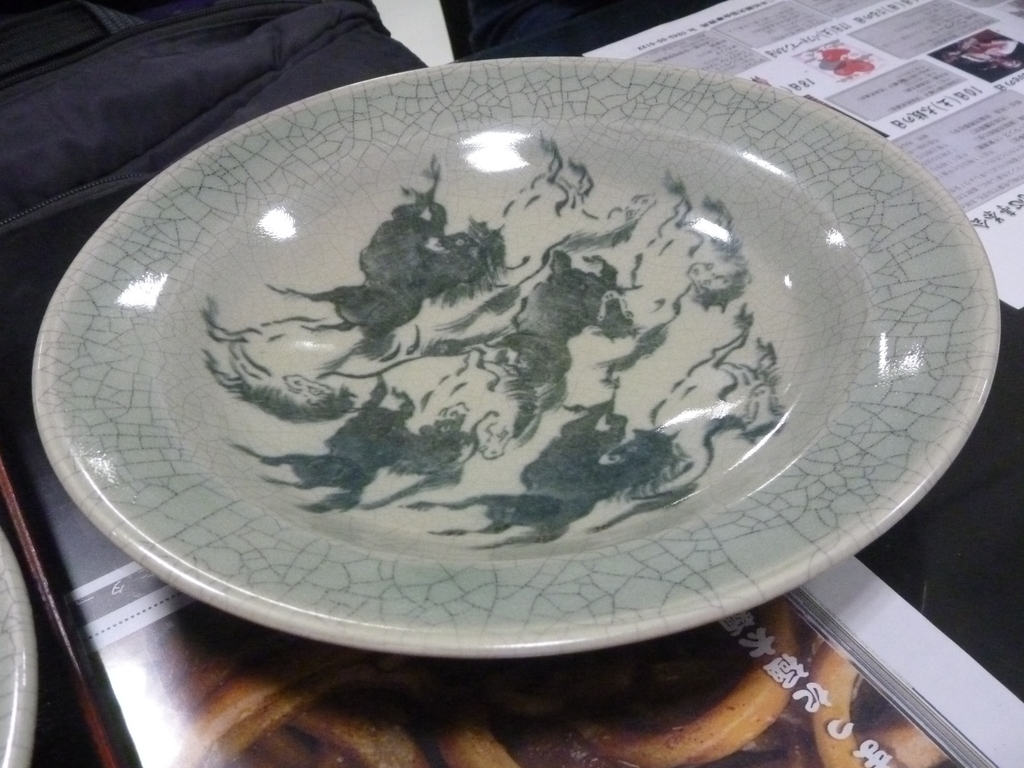plate: (28, 51, 981, 676)
